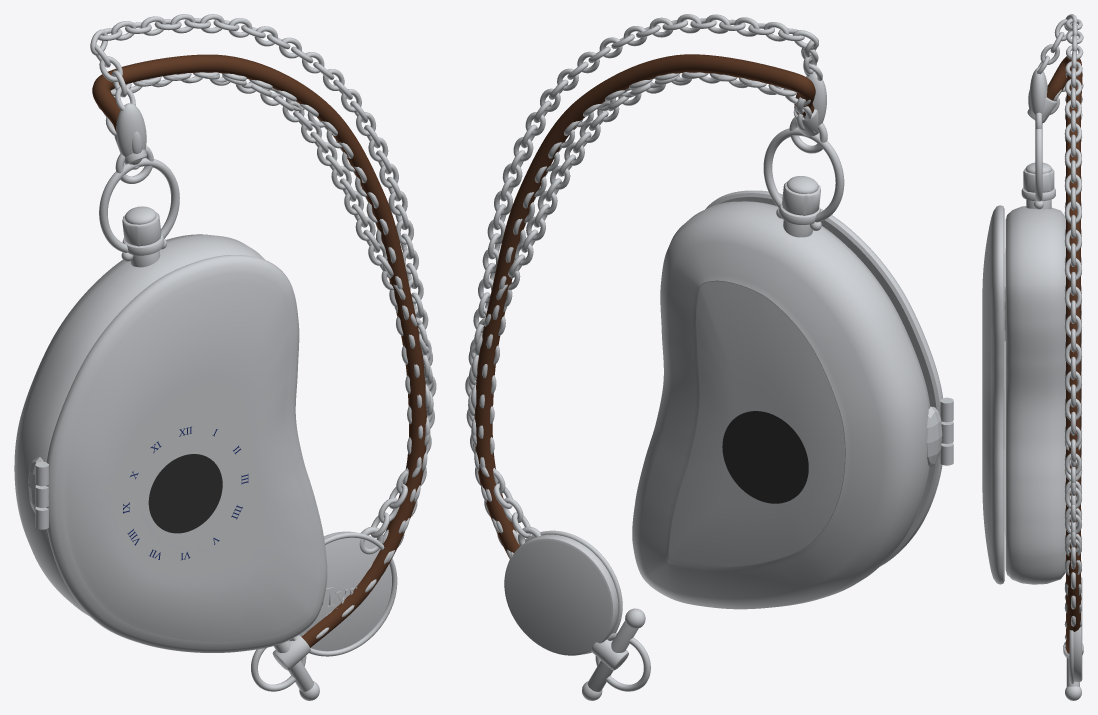
Rendered from pocket-melted.glb.
3 renders of one model, left to right at view 1: azimuth 30°, elevation 25°; view 2: azimuth 150°, elevation 25°; view 3: azimuth 270°, elevation 25°, orthographic. The views are drawn at different scales.
Parts seen in each view (by area): view 1: lid_half, lid_hunter, chain_leather, case, chain_chatelaine, chain_carabiner, chain_classic, engrave_lid, pendant, bow, hinge; view 2: case, case_back, chain_chatelaine, chain_leather, chain_carabiner, engrave_back, chain_classic, lid_hunter, pendant, bow, hinge, movement; view 3: case, chain_carabiner, lid_hunter, chain_leather, lid_half, chain_chatelaine, pendant, chain_classic, bow, bezel, crystal.
Part boxes in pixels (x1,y1,x2,y2): lid_half: [64, 274, 318, 642]; lid_hunter: [35, 255, 327, 652]; chain_leather: [92, 54, 426, 670]; case: [14, 234, 264, 615]; chain_chatelaine: [109, 72, 436, 656]; chain_carabiner: [90, 14, 432, 691]; chain_classic: [97, 72, 423, 700]; engrave_lid: [148, 454, 222, 533]; pendant: [121, 206, 166, 267]; bow: [99, 157, 179, 252]; hinge: [28, 457, 48, 529]; case: [632, 201, 930, 609]; case_back: [668, 281, 844, 566]; chain_chatelaine: [465, 72, 815, 655]; chain_leather: [474, 54, 827, 670]; chain_carabiner: [468, 14, 826, 691]; engrave_back: [722, 411, 808, 503]; chain_classic: [478, 72, 813, 700]; lid_hunter: [705, 190, 953, 566]; pendant: [776, 176, 821, 237]; bow: [763, 127, 844, 222]; hinge: [926, 397, 953, 466]; movement: [668, 280, 845, 567]; case: [1006, 206, 1065, 584]; chain_carabiner: [1028, 14, 1083, 648]; lid_hunter: [991, 205, 1004, 584]; chain_leather: [1027, 56, 1083, 658]; lid_half: [982, 220, 990, 569]; chain_chatelaine: [1042, 73, 1083, 684]; pendant: [1021, 162, 1055, 209]; chain_classic: [1043, 73, 1083, 700]; bow: [1035, 122, 1042, 201]; bezel: [1005, 219, 1005, 570]; crystal: [1005, 250, 1005, 536].
Bounding box in the file's own units: 64.21 × 100 × 15.3.
